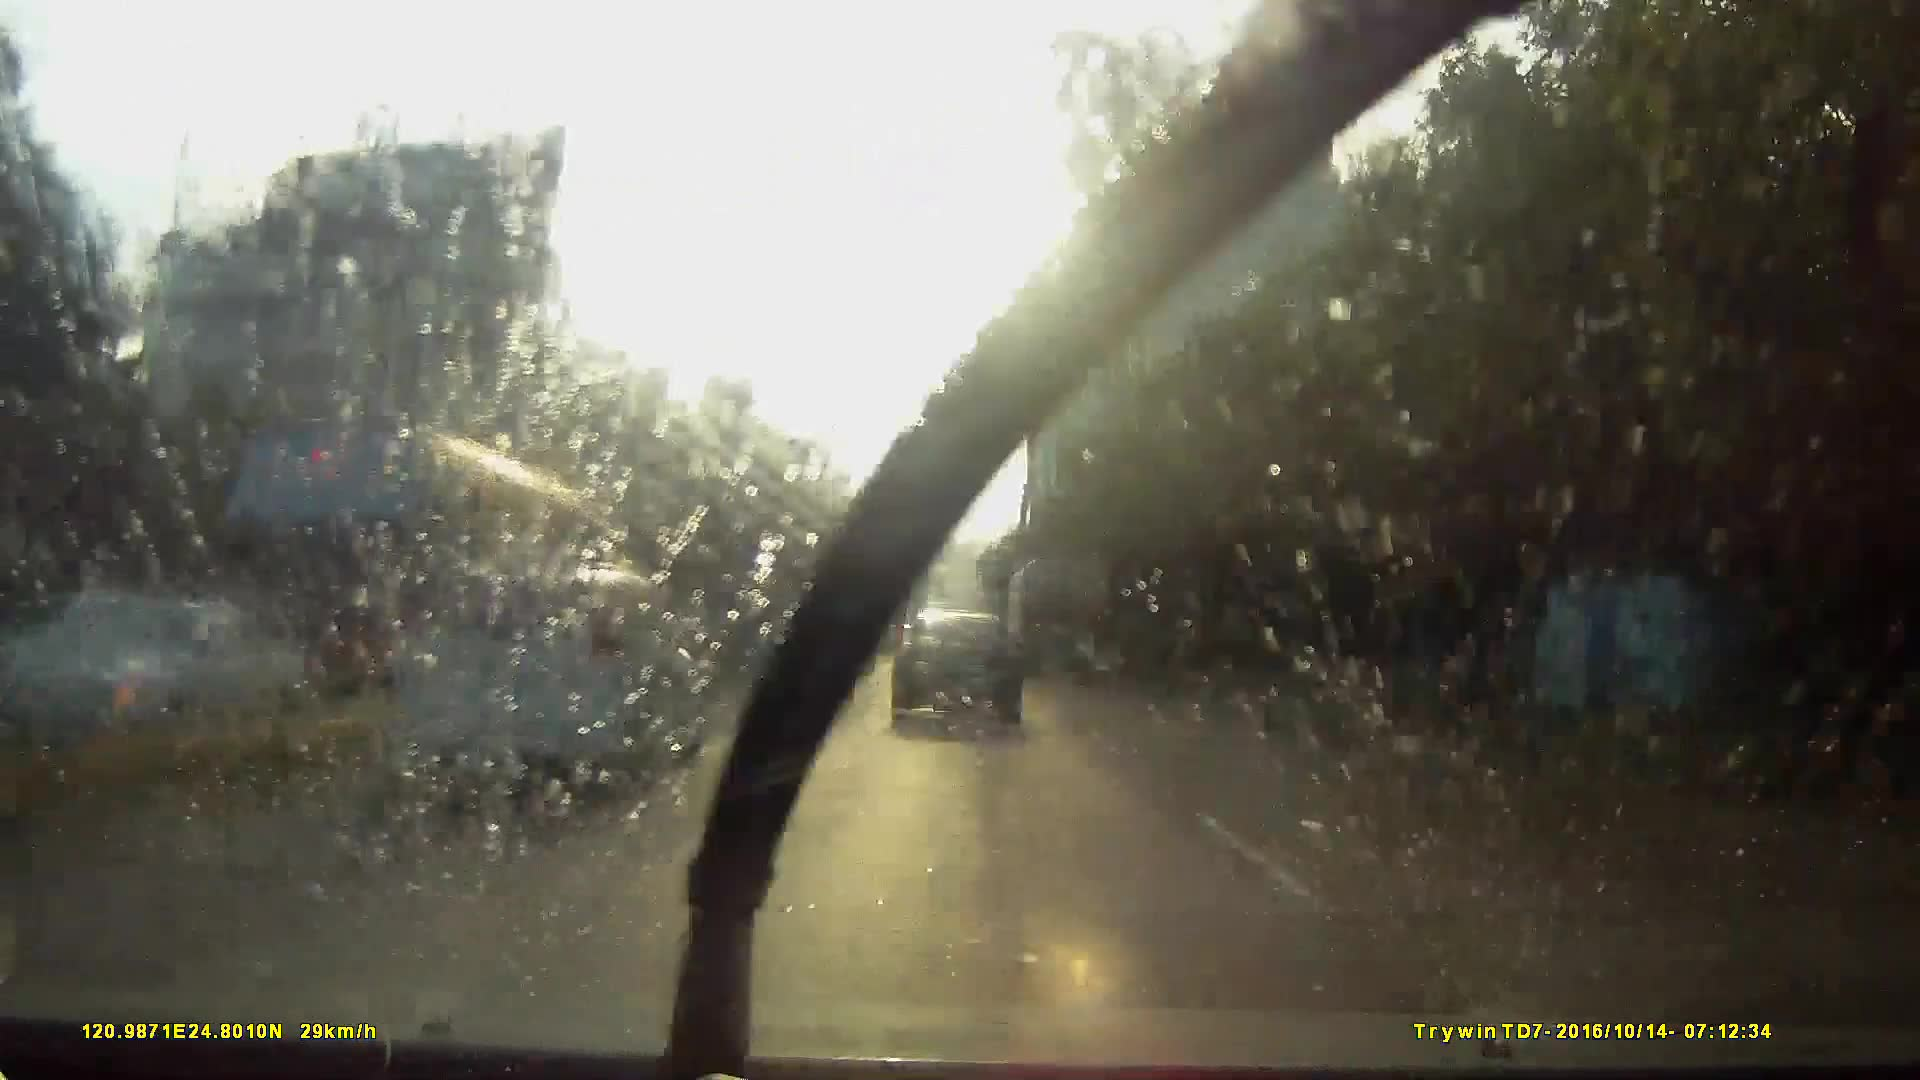vehicle: (164, 407, 633, 736), (251, 556, 684, 868), (404, 564, 708, 793), (0, 597, 274, 745), (891, 608, 1022, 735), (1005, 564, 1110, 691), (745, 626, 853, 713), (866, 638, 915, 687)
